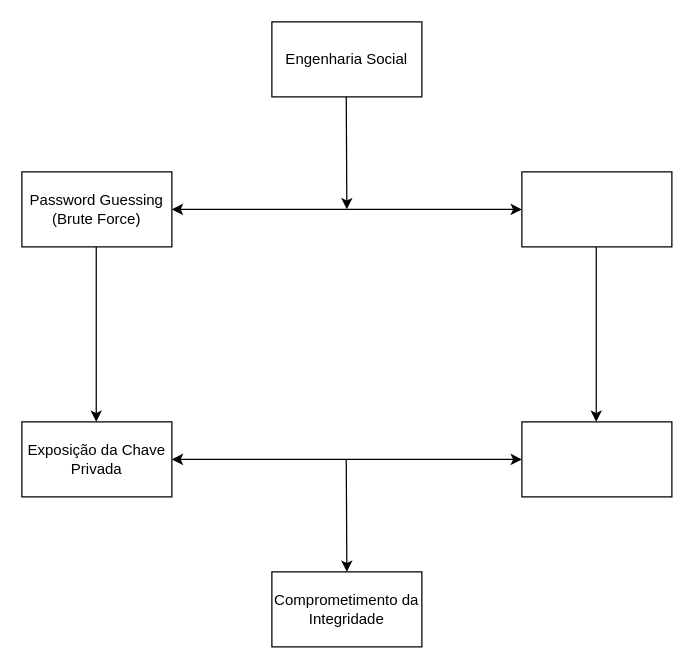
Image size: 694x669. Some labels were removed from this diagram. The centre of each missing label's shape, as x and y in pixels:
"Acesso não autorizado ao sistema de ficheiros" goes at (596,459).
"Modificação da Base de dados" goes at (596,209).
